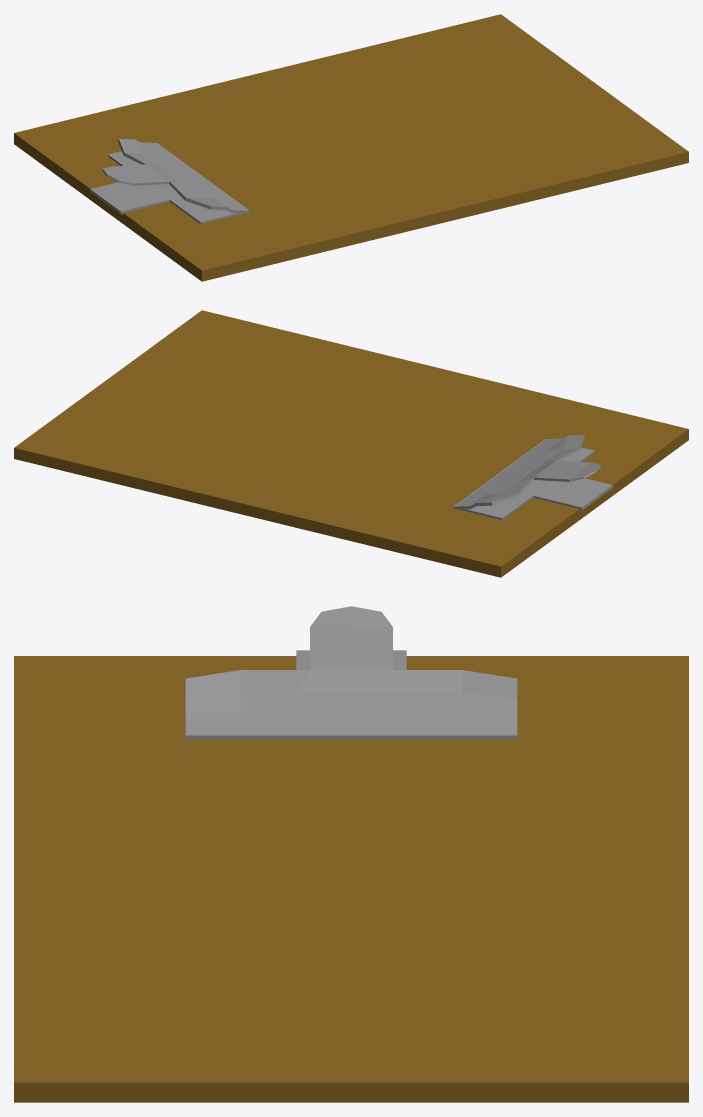
The model's file is Prancheta.fbx.
The picture shows the model from 3 angles, top to bottom: view 1: azimuth 30°, elevation 25°; view 2: azimuth 150°, elevation 25°; view 3: azimuth 270°, elevation 25°; orthographic projection. The views are drawn at different scales.
Visible parts, largest first — view 1: Prancheta; view 2: Prancheta; view 3: Prancheta.
Boxes of the visible parts, x1,y1,x2,y2 form: Prancheta: (14, 14, 688, 281); Prancheta: (14, 310, 688, 577); Prancheta: (14, 606, 688, 1102).
Size of the model in its own units: 207 by 15.55 by 138.
